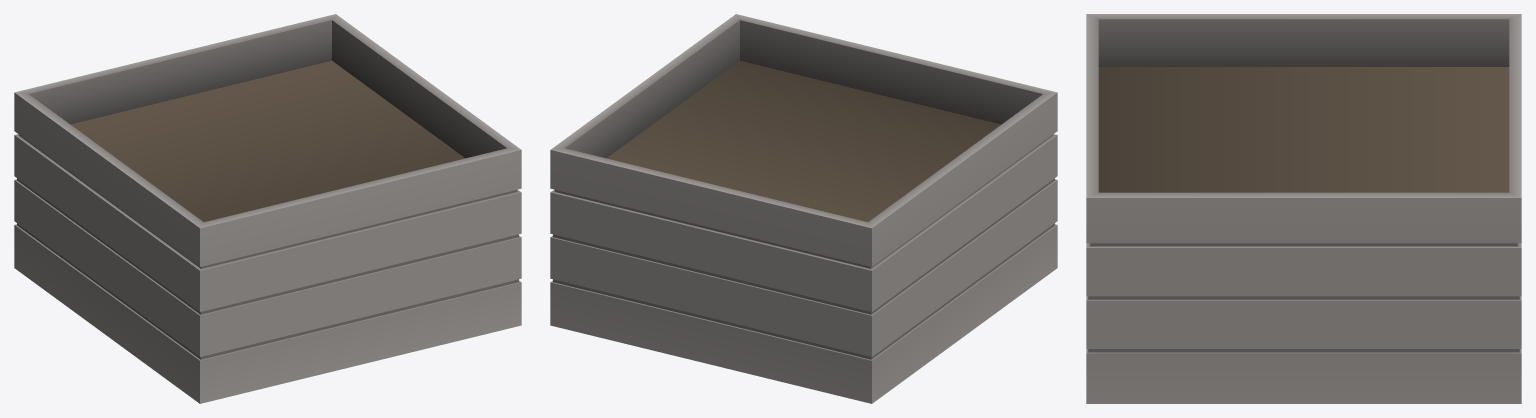
The picture shows the model from 3 angles, left to right: view 1: azimuth 30°, elevation 25°; view 2: azimuth 150°, elevation 25°; view 3: azimuth 270°, elevation 25°; orthographic projection. The views are drawn at different scales.
Parts seen in each view (by area): view 1: GryadkaHigh; view 2: GryadkaHigh; view 3: GryadkaHigh.
Part boxes in pixels (x1,y1,x2,y2): GryadkaHigh: (14, 14, 521, 403); GryadkaHigh: (550, 14, 1057, 403); GryadkaHigh: (1086, 14, 1521, 403).
Size of the model in its own units: 1.7 by 1.7 by 0.8887.
